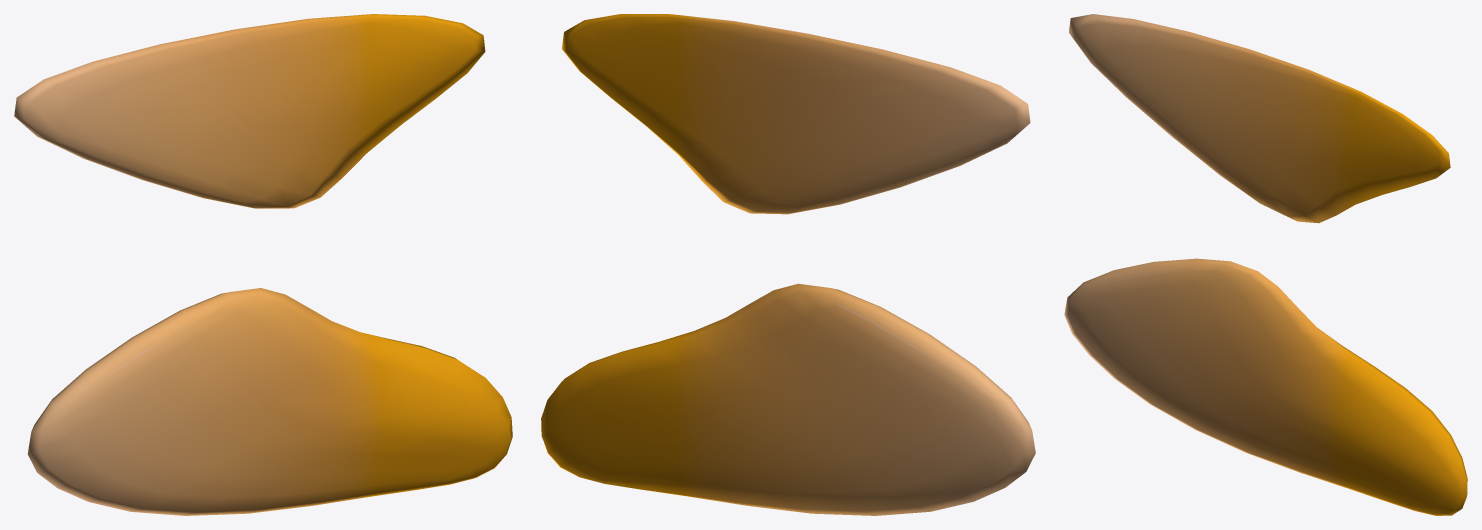
File: yellowfish tail.fbx
3 renders of one model, left to right at view 1: azimuth 30°, elevation 25°; view 2: azimuth 150°, elevation 25°; view 3: azimuth 330°, elevation 25°, orthographic. The views are drawn at different scales.
Visible parts, largest first — view 1: fish.001; view 2: fish.001; view 3: fish.001.
Boxes of the visible parts, box(x1,y1,x2,y2) form: fish.001: box(14, 14, 512, 515); fish.001: box(541, 14, 1035, 515); fish.001: box(1064, 14, 1467, 515).
Bounding box in the file's own units: 141 × 138 × 14.09.
Materials: 1 (1 with a texture image).
